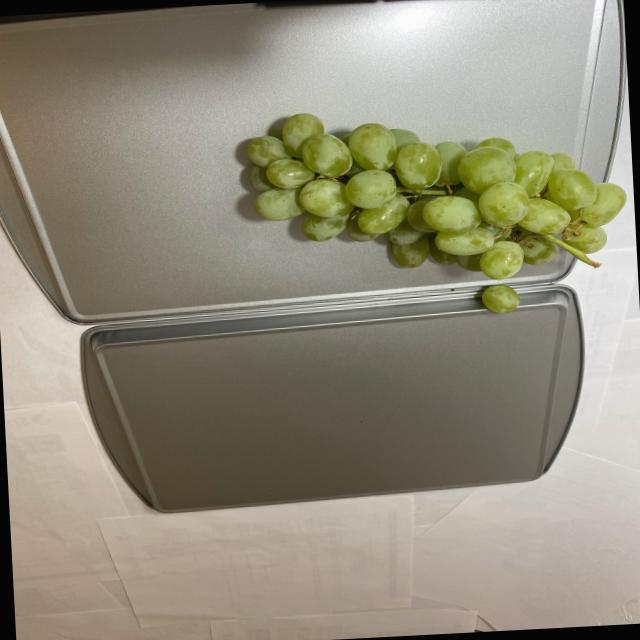grapes: (232, 104, 620, 329)
